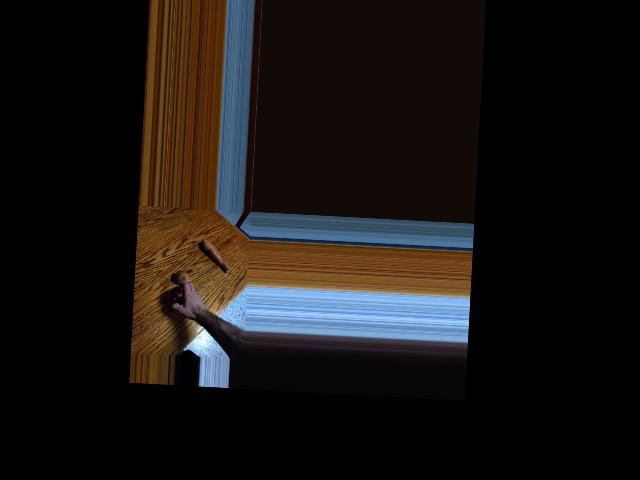onion: (173, 269, 190, 285)
